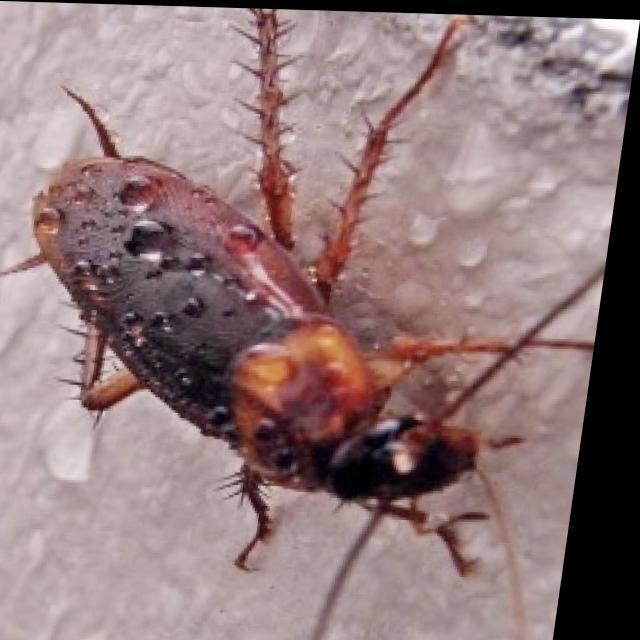cockroach: (5, 10, 598, 636)
